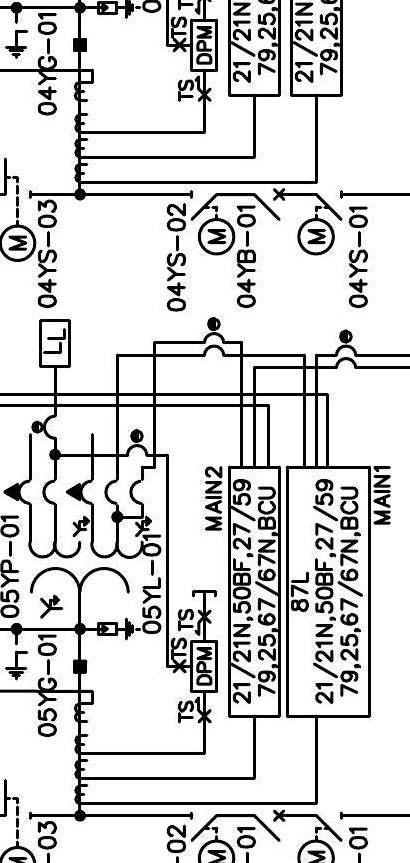115_1way_ds_w_motor: (189, 190, 236, 257), (297, 190, 344, 257)
115_breaker: (254, 809, 286, 843), (254, 188, 286, 221)
115_gs: (4, 641, 29, 682), (4, 20, 29, 61)
115_la: (97, 617, 142, 642)
115_vt_3p: (2, 479, 153, 620)
DPM: (190, 19, 219, 73), (190, 641, 219, 694)
LL: (38, 319, 72, 369)
